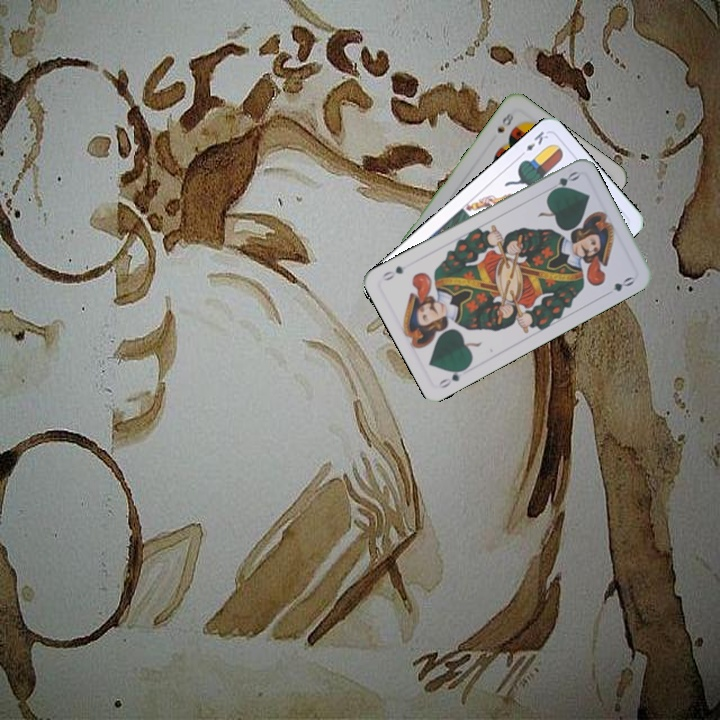EK: (515, 127, 551, 160)
GO: (544, 167, 582, 197), (435, 362, 471, 391)
S8: (493, 108, 516, 135)
